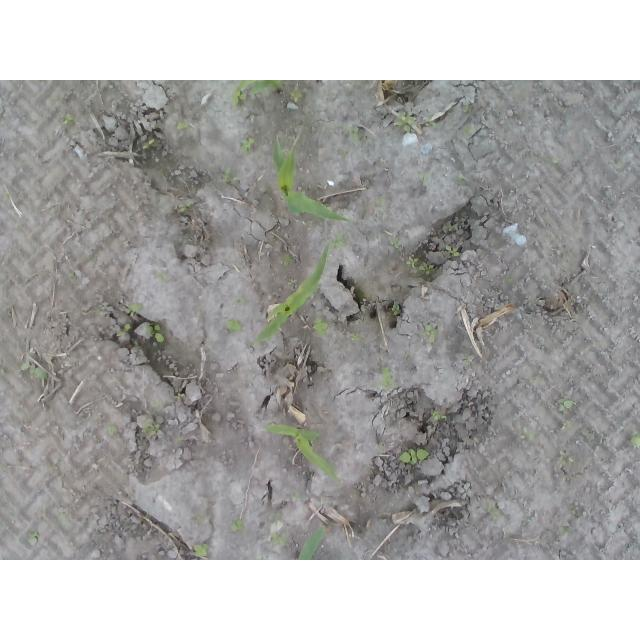Maize: (254, 241, 330, 343), (272, 135, 352, 223), (263, 423, 337, 482), (233, 80, 281, 106), (295, 526, 324, 560)
Weeds: (405, 253, 435, 281), (399, 447, 433, 466), (16, 361, 48, 380), (394, 111, 418, 134), (146, 321, 167, 347), (480, 500, 505, 520), (418, 319, 438, 343), (343, 124, 361, 145), (223, 167, 242, 185), (313, 317, 329, 338), (380, 366, 393, 390), (559, 398, 578, 414), (239, 135, 255, 154), (559, 448, 577, 464), (416, 168, 432, 186), (290, 85, 306, 103), (425, 112, 441, 129), (518, 427, 536, 442), (271, 531, 289, 546), (192, 542, 208, 558), (224, 319, 241, 334), (280, 255, 295, 272), (24, 531, 41, 546), (117, 320, 132, 336), (430, 408, 447, 422), (144, 422, 161, 436), (126, 303, 143, 317), (335, 231, 348, 249), (445, 244, 463, 257), (464, 350, 476, 368), (155, 271, 169, 286), (377, 195, 386, 218), (231, 519, 245, 533), (142, 135, 156, 149), (63, 112, 75, 128), (559, 526, 576, 537), (337, 148, 351, 161), (630, 431, 640, 449), (271, 511, 281, 527), (103, 423, 119, 433), (448, 222, 464, 232), (94, 304, 106, 317), (389, 238, 402, 250), (175, 201, 193, 209), (462, 125, 474, 137), (545, 156, 560, 165), (176, 119, 189, 129), (562, 419, 571, 433), (391, 304, 401, 316), (56, 510, 64, 524), (463, 103, 473, 114), (351, 331, 361, 341), (175, 392, 186, 401), (456, 176, 465, 185), (250, 87, 259, 95), (241, 92, 248, 100), (360, 319, 368, 325)
